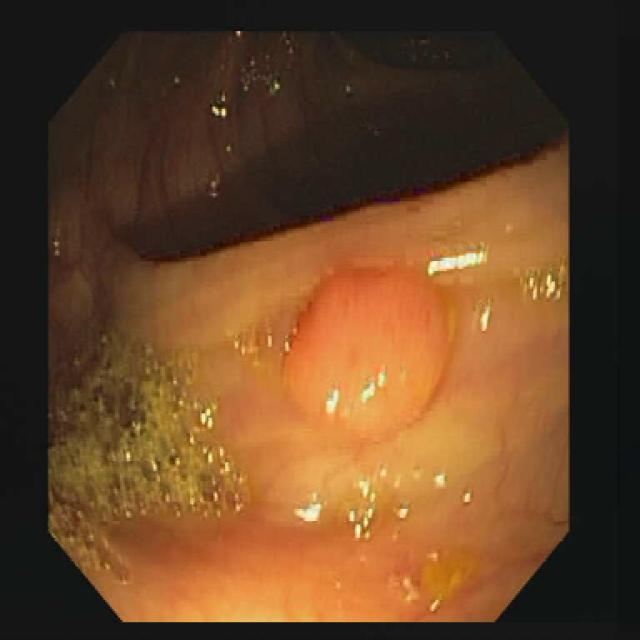tumor: (282, 249, 485, 436)
